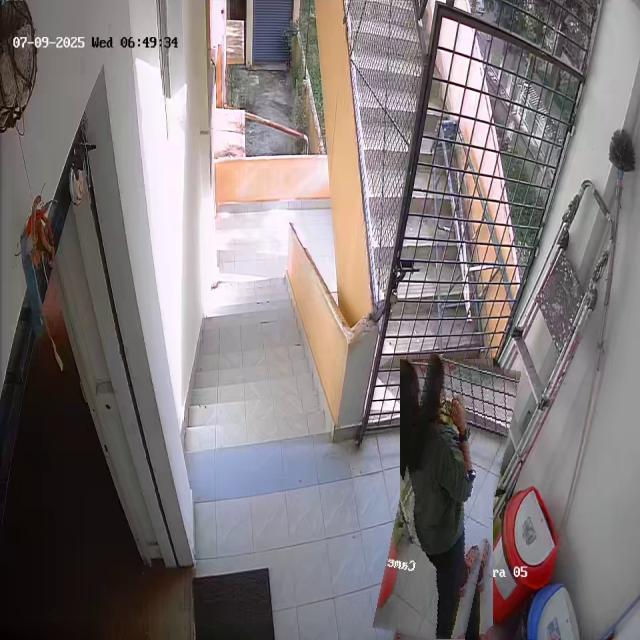person: (386, 355, 507, 640)
